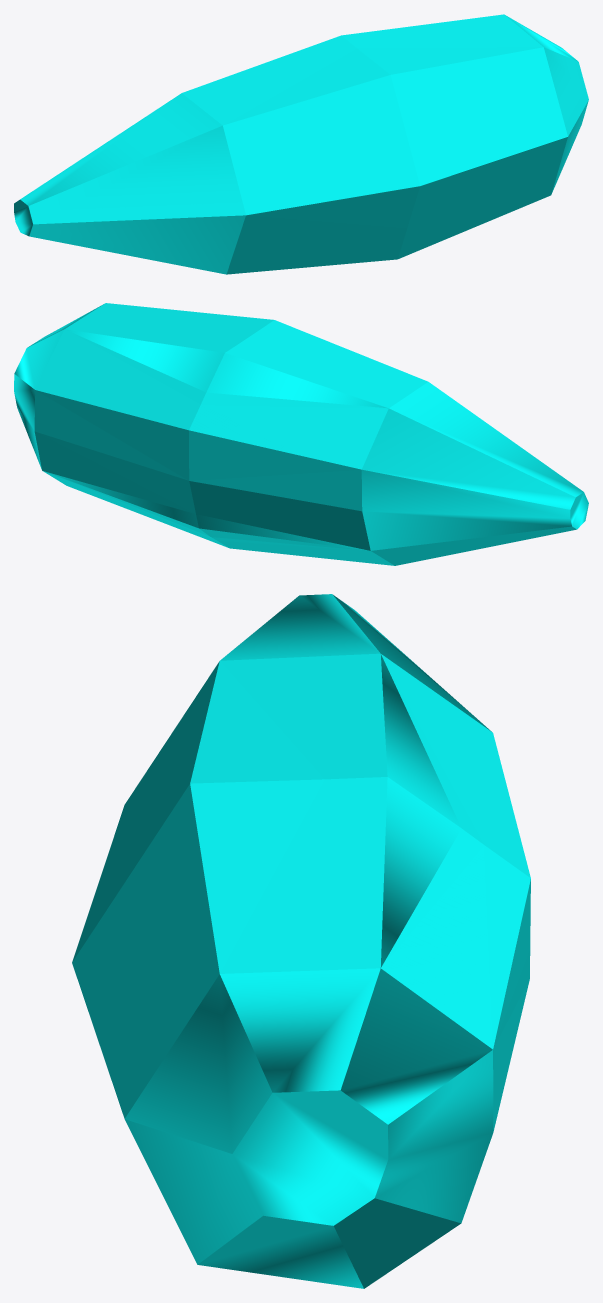
The model's file is Icycle.FBX.
3 views of the same model, one above another, from view 1: azimuth 30°, elevation 25°; view 2: azimuth 150°, elevation 25°; view 3: azimuth 270°, elevation 25° (orthographic). The views are drawn at different scales.
Parts seen in each view (by area): view 1: Crystal_Light_Blue_01; view 2: Crystal_Light_Blue_01; view 3: Crystal_Light_Blue_01.
Boxes of the visible parts, x1,y1,x2,y2 form: Crystal_Light_Blue_01: (14, 14, 588, 274); Crystal_Light_Blue_01: (14, 303, 588, 565); Crystal_Light_Blue_01: (72, 594, 530, 1288).
Size of the model in its own units: 60.9 by 21.13 by 22.19.
